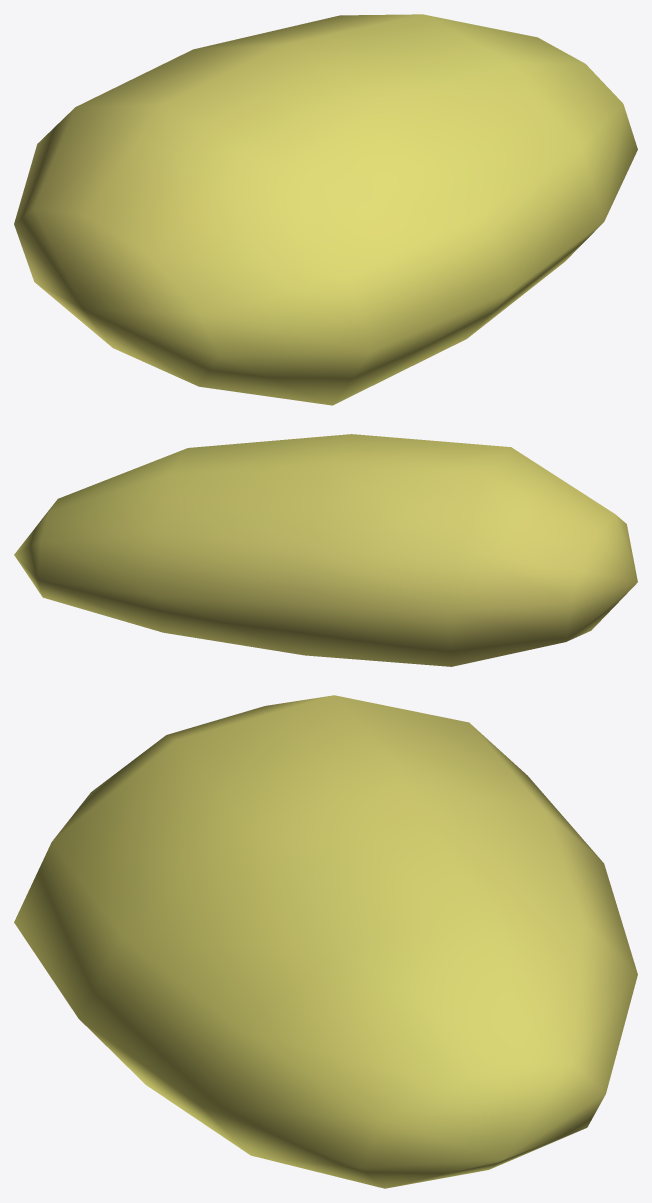
The model's file is PC_Man_Eyebrow007_R.glb.
The picture shows the model from 3 angles, top to bottom: view 1: azimuth 30°, elevation 25°; view 2: azimuth 150°, elevation 25°; view 3: azimuth 270°, elevation 25°; orthographic projection. The views are drawn at different scales.
Visible parts, largest first — view 1: PC_Man_Eyebrow007_R_mesh; view 2: PC_Man_Eyebrow007_R_mesh; view 3: PC_Man_Eyebrow007_R_mesh.
Part boxes in pixels (left/top/right/bottom): PC_Man_Eyebrow007_R_mesh: left=14, top=14, right=637, bottom=405; PC_Man_Eyebrow007_R_mesh: left=14, top=434, right=637, bottom=666; PC_Man_Eyebrow007_R_mesh: left=14, top=695, right=637, bottom=1188.
Bounding box in the file's own units: 0.1075 × 0.0382 × 0.0801.
1 material, 1 textured.
